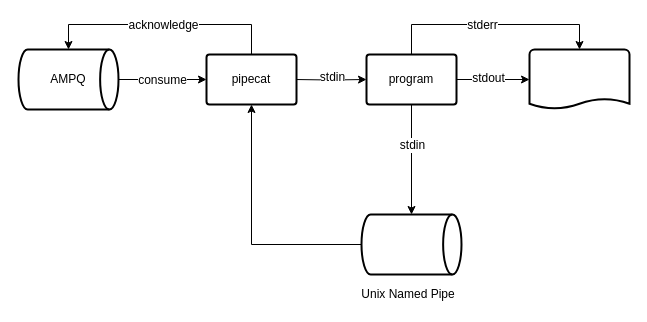
Some shapes in this 647 by 322 pixel diagram are drawn without their labels. The centre of each missing label's shape, as x and y in pixels:
"Display" goes at (579,79).
"FACK" goes at (411,244).
